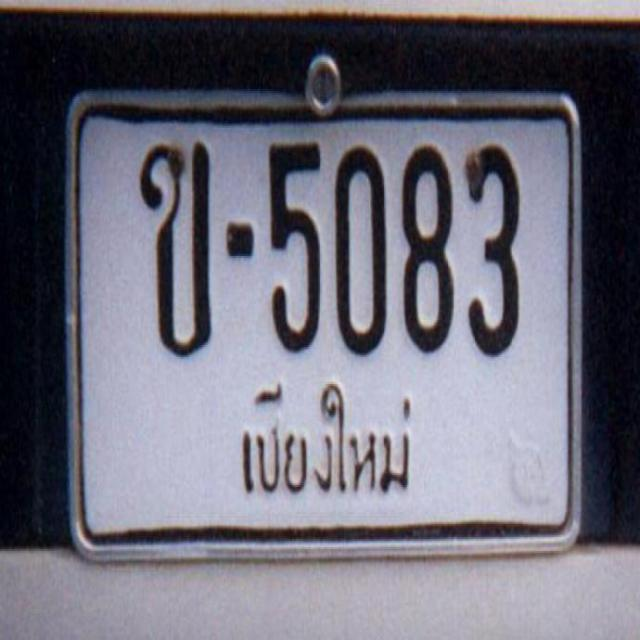0: (333, 144, 384, 355)
3: (464, 142, 519, 357)
5: (267, 139, 320, 354)
8: (400, 144, 452, 353)
A02: (137, 136, 210, 357)
CMI: (229, 374, 422, 514)
